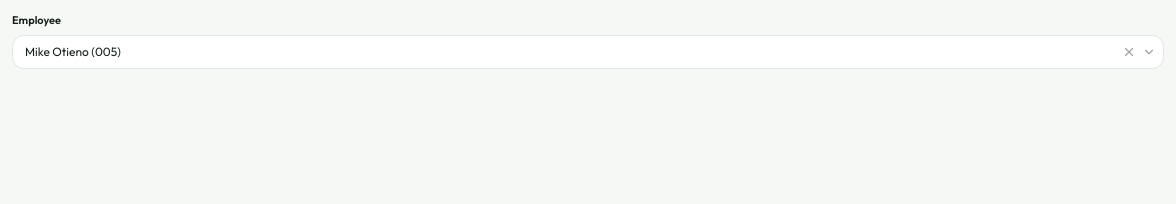
Test: EmployeePicker › can be cleared and can exclude people
Step 1. Click the button named "clear selected employee" → (1129, 52), box [1120,42,1138,60]
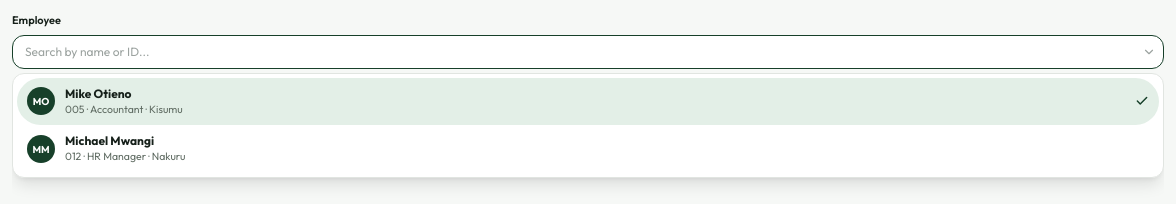
Step 2. Type "wanjiru" into the dropdown → (588, 52), box [12,34,1164,68]
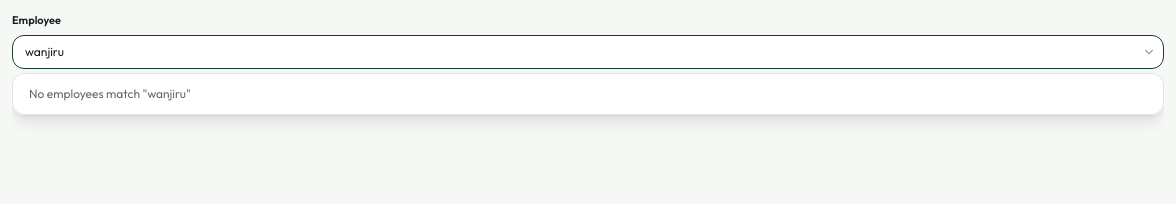
expect no options are shown: met
